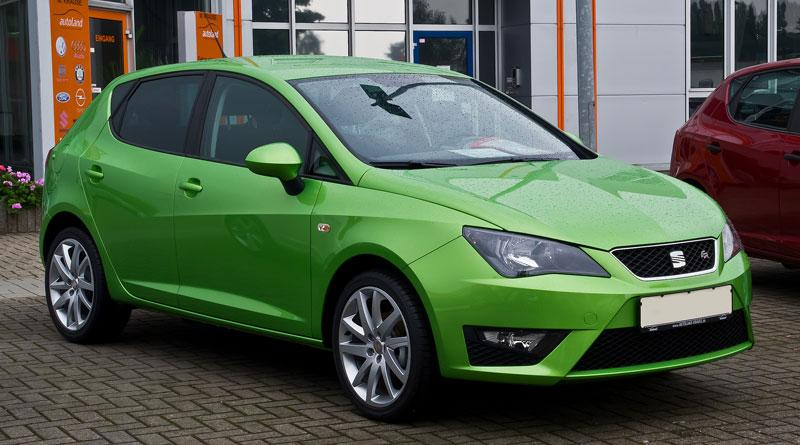windshield: (285, 68, 601, 171)
